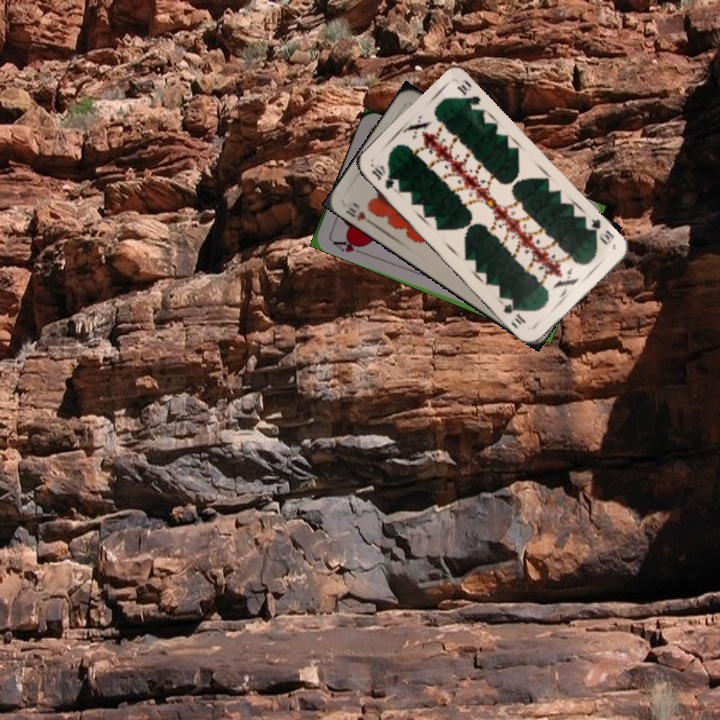G10: (581, 214, 617, 247), (368, 160, 397, 192)
H10: (341, 198, 377, 228)
HA: (327, 235, 367, 257)
